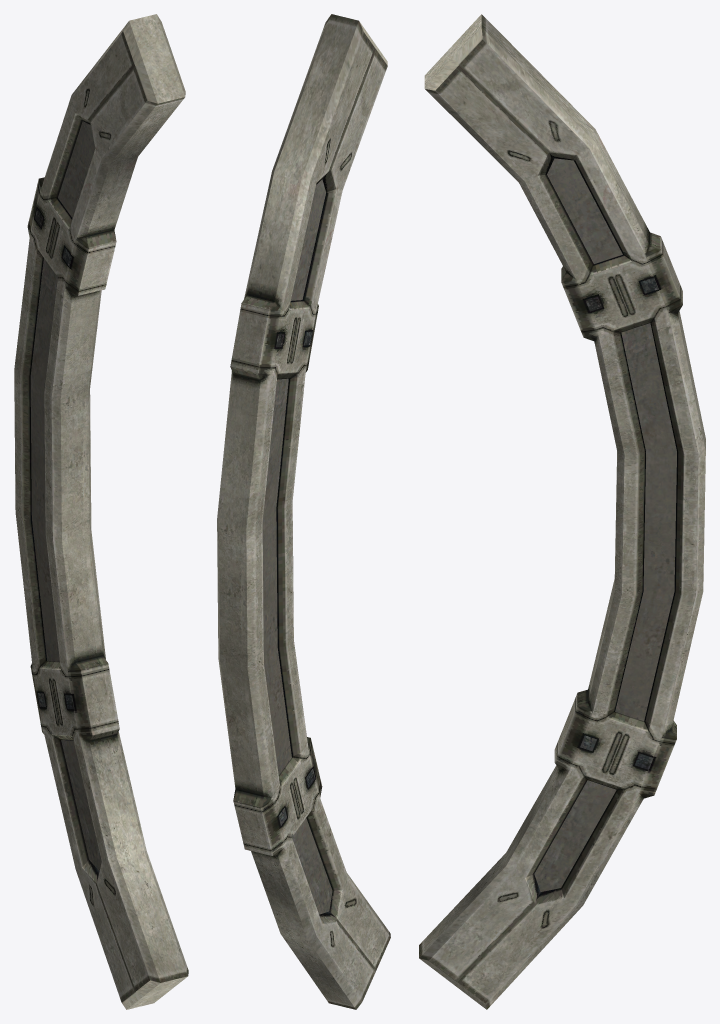
Rendered from catwalk_white_girder_curved.dae.
The picture shows the model from 3 angles, left to right: view 1: azimuth 30°, elevation 25°; view 2: azimuth 150°, elevation 25°; view 3: azimuth 270°, elevation 25°; orthographic projection.
Visible parts, largest first — view 1: polySurface560; view 2: polySurface560; view 3: polySurface560.
Boxes of the visible parts, x1,y1,x2,y2 form: polySurface560: (14,14,188,1009); polySurface560: (217,14,390,1009); polySurface560: (419,14,705,1009).
Bounding box in the file's own units: 0.1721 × 4.23 × 1.12.
